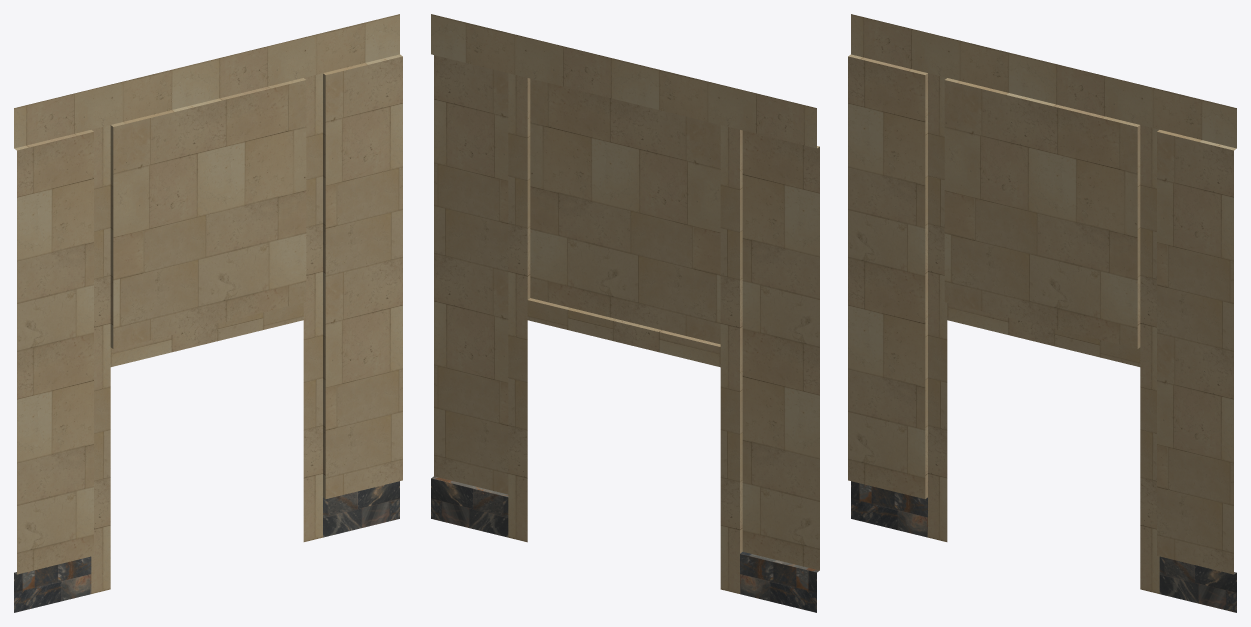
File: DoubleDoorFrame_01_5x4.fbx
3 renders of one model, left to right at view 1: azimuth 30°, elevation 25°; view 2: azimuth 150°, elevation 25°; view 3: azimuth 330°, elevation 25°, orthographic.
Visible parts, largest first — view 1: Cube.365; view 2: Cube.365; view 3: Cube.365.
Part boxes in pixels (x1,y1,x2,y2): Cube.365: [14, 14, 402, 612]; Cube.365: [431, 14, 819, 612]; Cube.365: [848, 14, 1236, 612].
Size of the model in its own units: 400 by 500 by 5.
